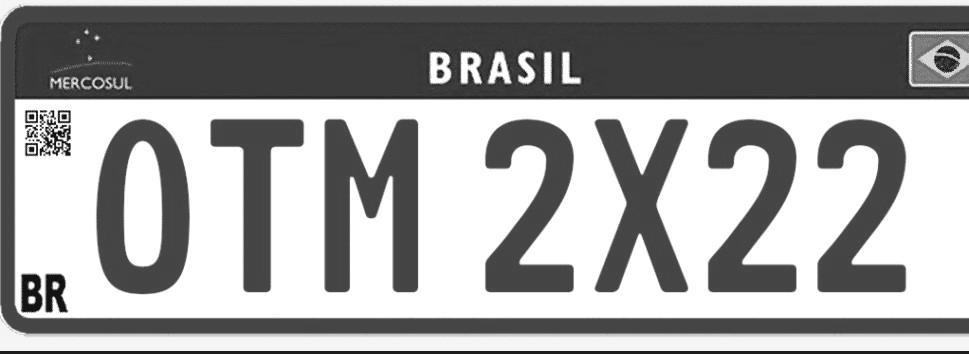placa_mercosul: (0, 0, 968, 331)
